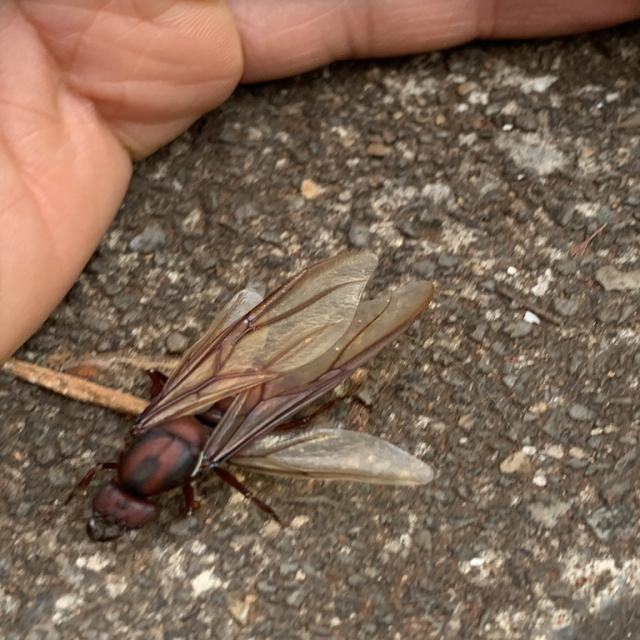Alive-Female-Alate: (41, 250, 435, 542)
